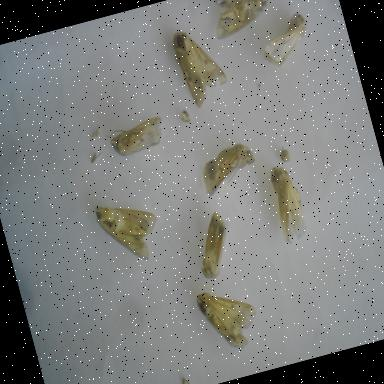abw: (166, 16, 236, 114), (90, 189, 170, 274), (192, 276, 268, 360), (260, 156, 320, 250), (184, 206, 245, 286), (252, 4, 320, 74), (193, 136, 266, 200), (98, 110, 175, 170), (201, 0, 279, 45)
